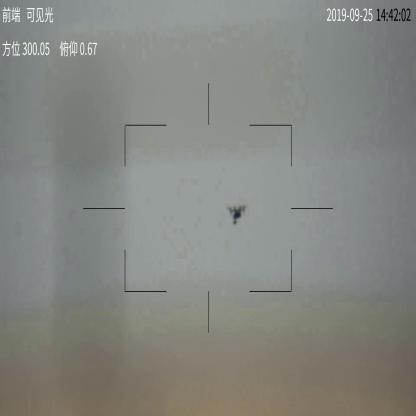uav: (229, 204, 250, 226)
